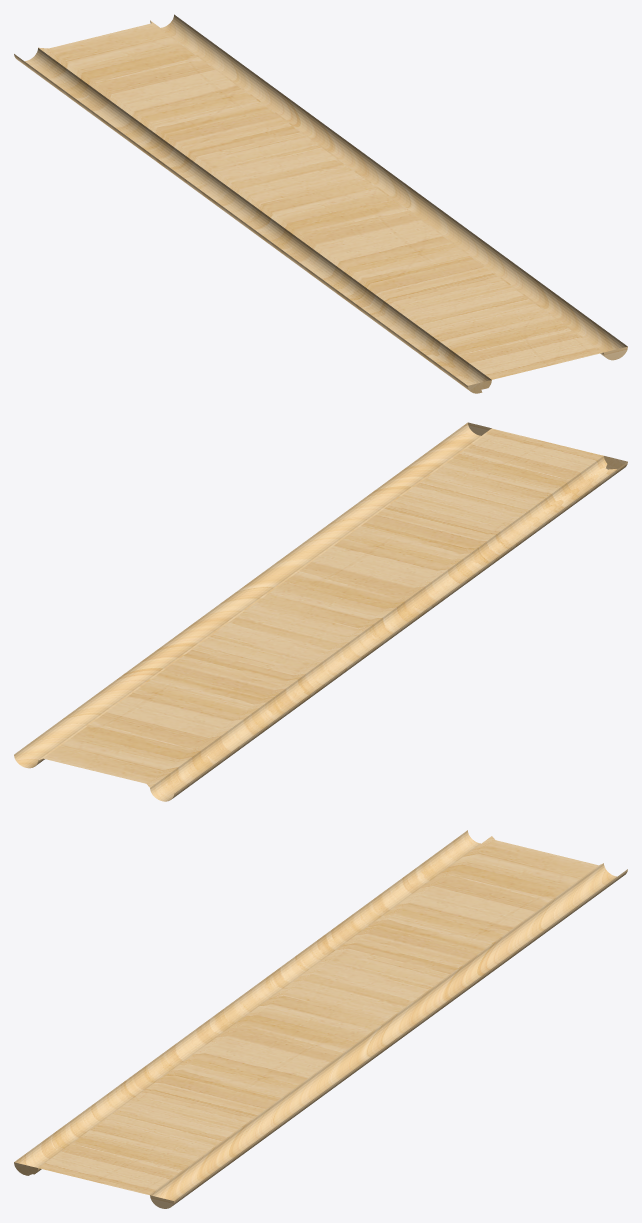
The model's file is lane.fbx.
The picture shows the model from 3 angles, top to bottom: view 1: azimuth 30°, elevation 25°; view 2: azimuth 150°, elevation 25°; view 3: azimuth 330°, elevation 25°; orthographic projection.
Parts seen in each view (by area): view 1: Plane; view 2: Plane; view 3: Plane.
Part boxes in pixels (box(x1,y1,x2,y2)): Plane: box(14, 14, 627, 393); Plane: box(14, 422, 627, 801); Plane: box(14, 830, 627, 1208).
Bounding box in the file's own units: 2726 × 171 × 13383.
